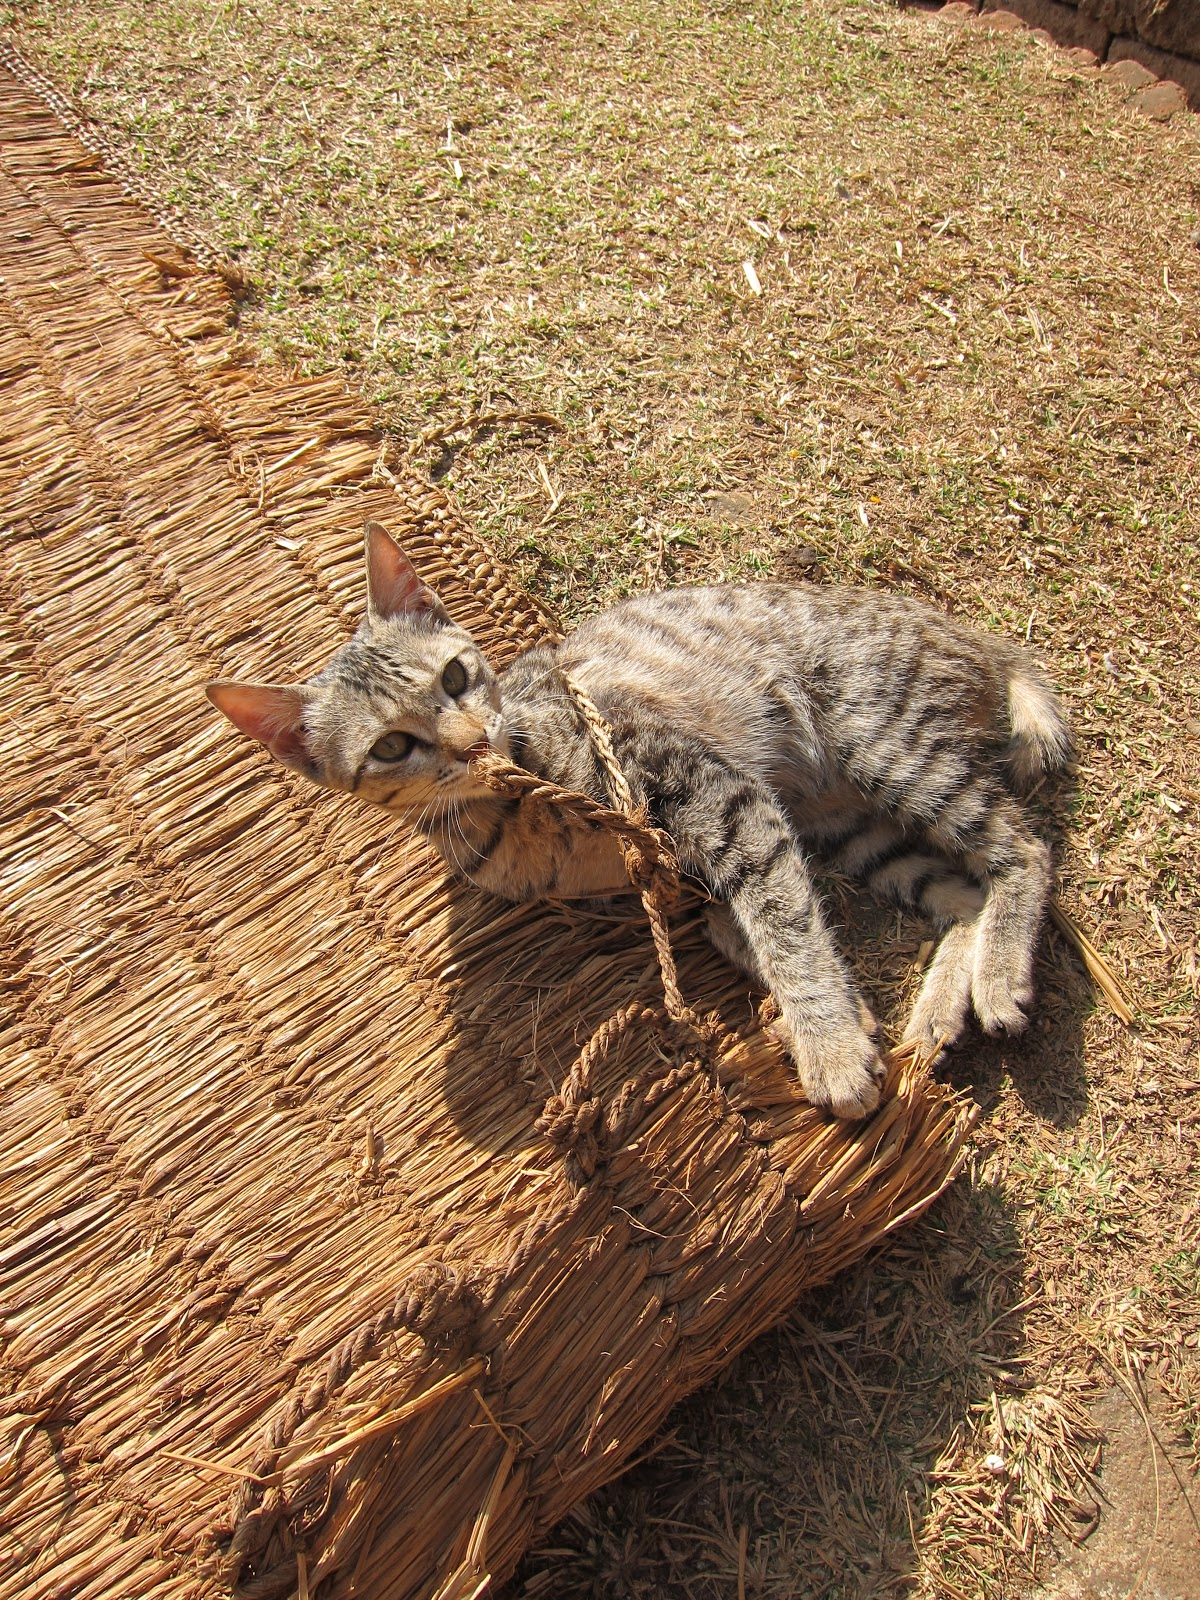cat: (188, 515, 1165, 1157)
